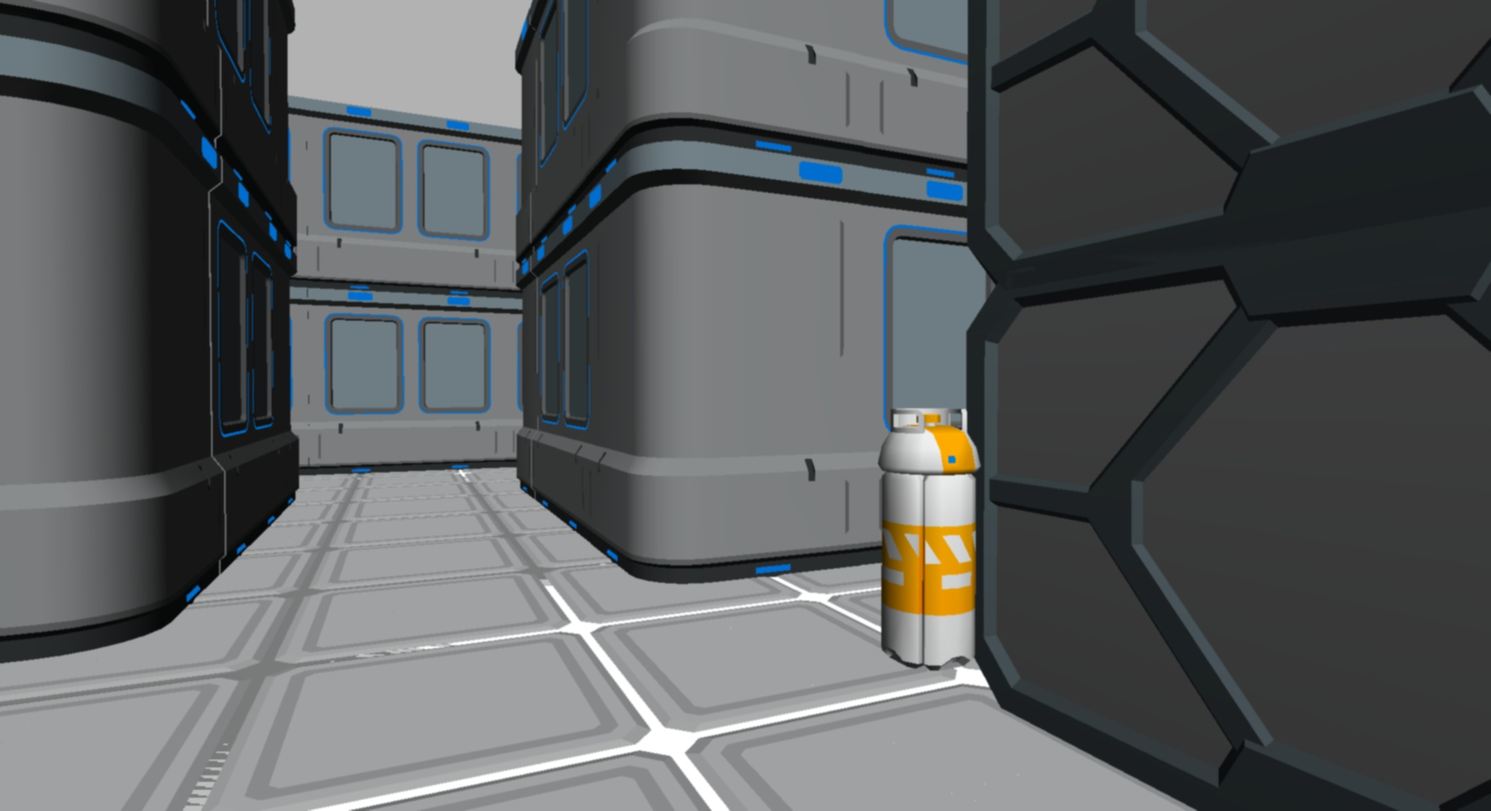yellow_barrel: (879, 409, 976, 669)
